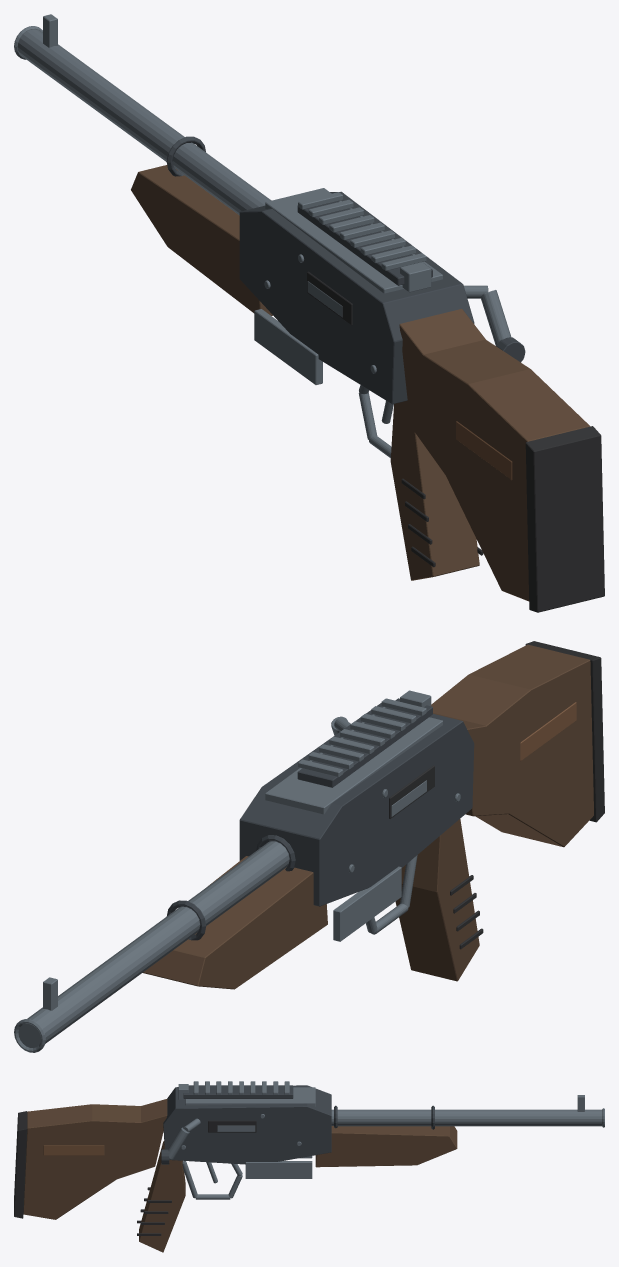
The model's file is Firearm_802.fbx.
3 views of the same model, one above another, from view 1: azimuth 30°, elevation 25°; view 2: azimuth 150°, elevation 25°; view 3: azimuth 270°, elevation 25° (orthographic). The views are drawn at different scales.
Parts seen in each view (by area): view 1: Firearm_802; view 2: Firearm_802; view 3: Firearm_802.
Boxes of the visible parts, box(x1,y1,x2,y2) form: Firearm_802: box(14, 14, 604, 612); Firearm_802: box(14, 641, 604, 1052); Firearm_802: box(14, 1081, 604, 1252).
Size of the model in its own units: 0.2057 by 0.4346 by 1.46.
